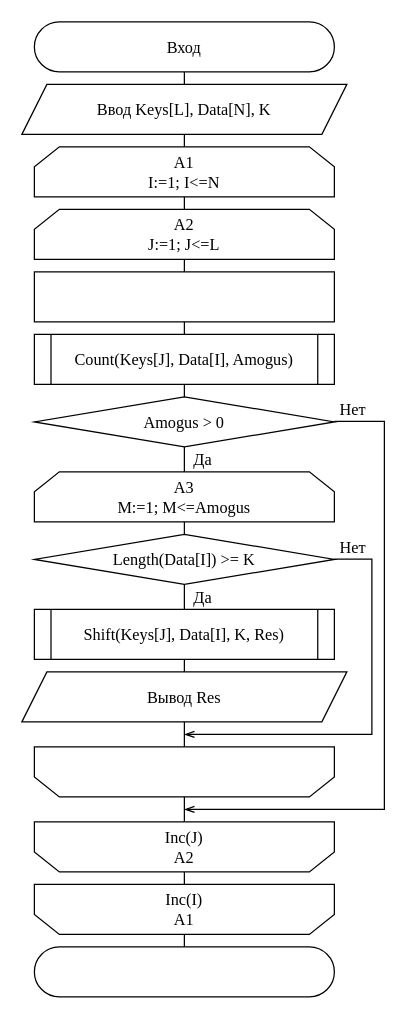
Some shapes in this 416 by 1019 pixel diagram are drawn without their labels. Here are the shapes that lost their labels. From the top down, the box of each, then its label:
(33, 271, 334, 322): Amogus:= 0
(33, 746, 334, 797): Inc(M) A3
(33, 946, 334, 997): Выход
